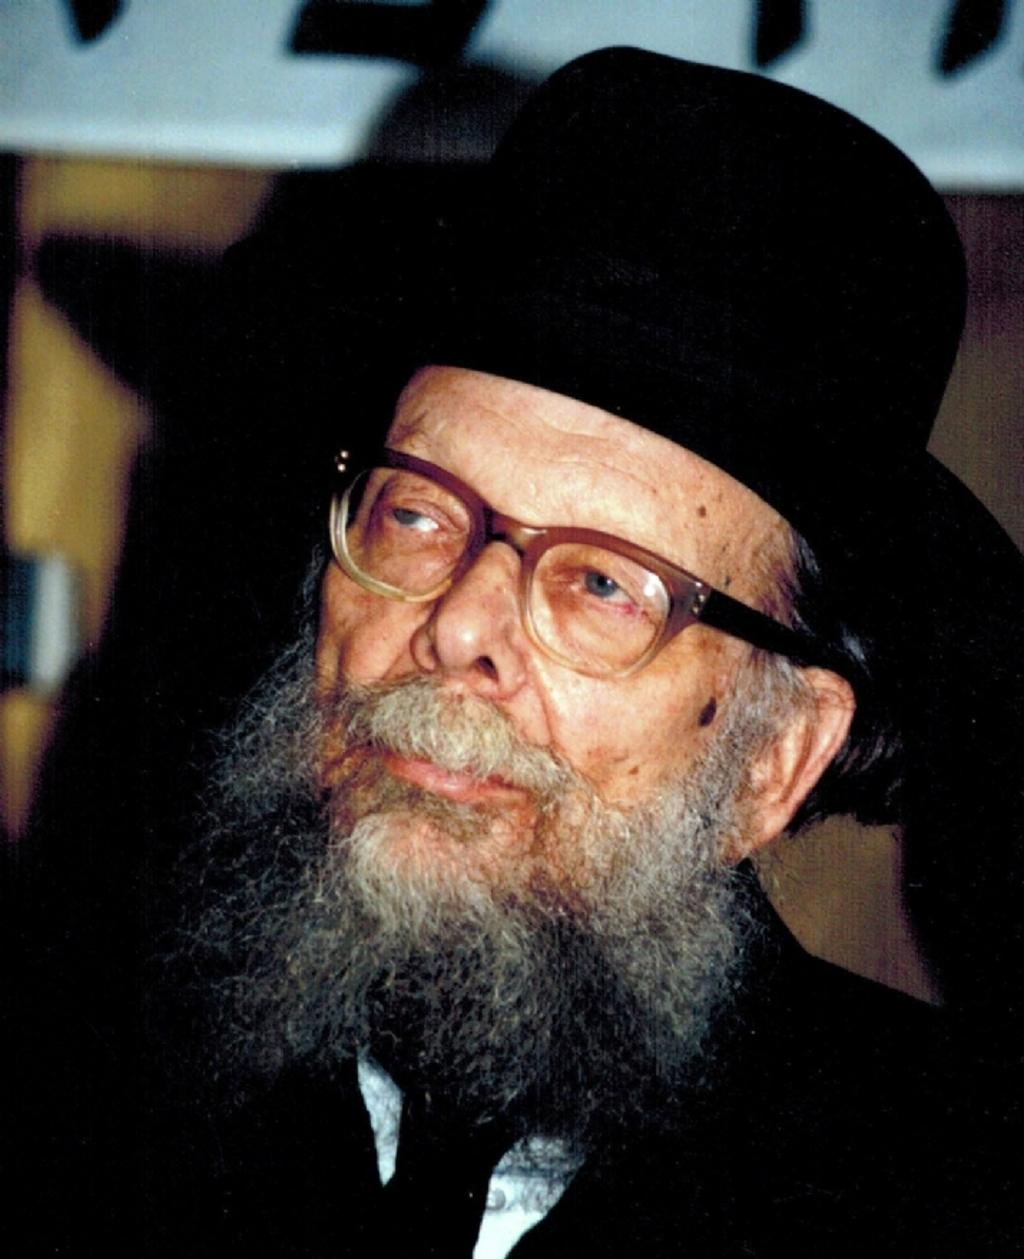face: (325, 385, 726, 944)
